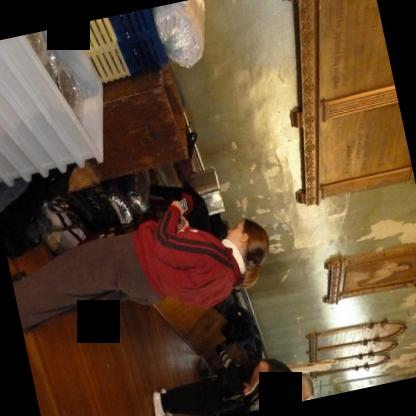backpack: (0, 204, 56, 262)
handbag: (39, 191, 89, 254)
